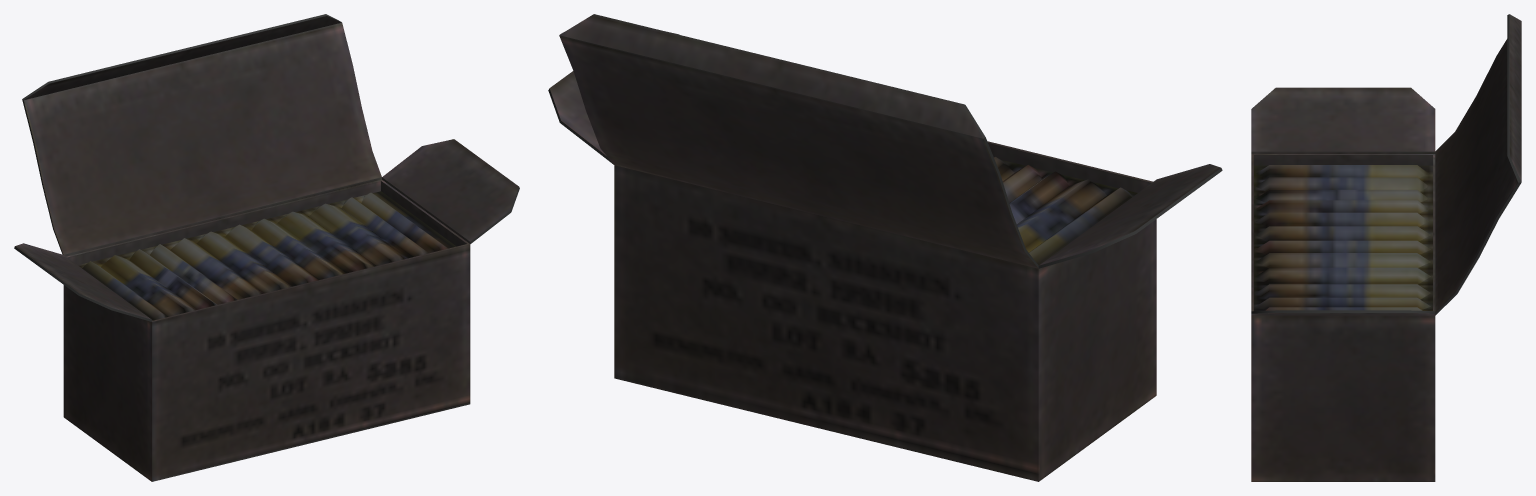
The model's file is ammo_box_mp_5.obj.
3 renders of one model, left to right at view 1: azimuth 30°, elevation 25°; view 2: azimuth 150°, elevation 25°; view 3: azimuth 270°, elevation 25°, orthographic. The views are drawn at different scales.
Visible parts, largest first — view 1: ammo_box_mp_5; view 2: ammo_box_mp_5; view 3: ammo_box_mp_5.
Part boxes in pixels (bbox=[...]): ammo_box_mp_5: bbox=[14, 14, 519, 481]; ammo_box_mp_5: bbox=[548, 14, 1222, 481]; ammo_box_mp_5: bbox=[1251, 14, 1521, 481].
Bounding box in the file's own units: 0.2806 × 0.1851 × 0.1431.
